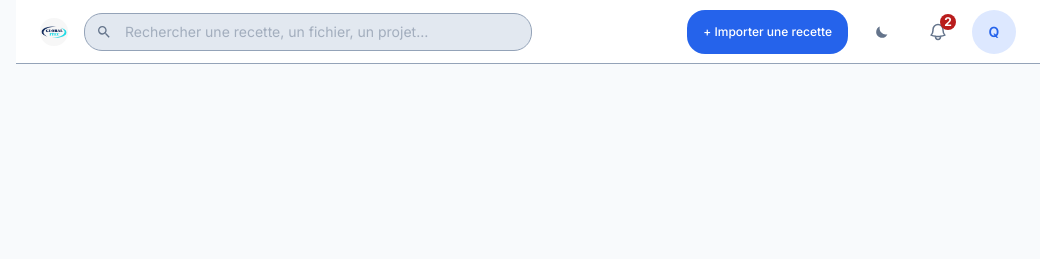
Topbar notifications › affiche le compteur et les notifications
The image size is (1040, 259).
Click the button named "Notifications".
click(938, 32)  # box [916, 10, 960, 54]
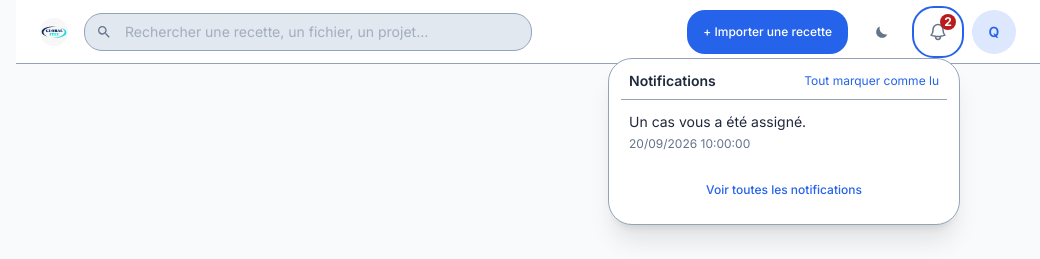
Expected: the text "2" is shown, [940, 14, 956, 30]
Expected: the text "Un cas vous a été assigné." is shown, [629, 112, 806, 130]
